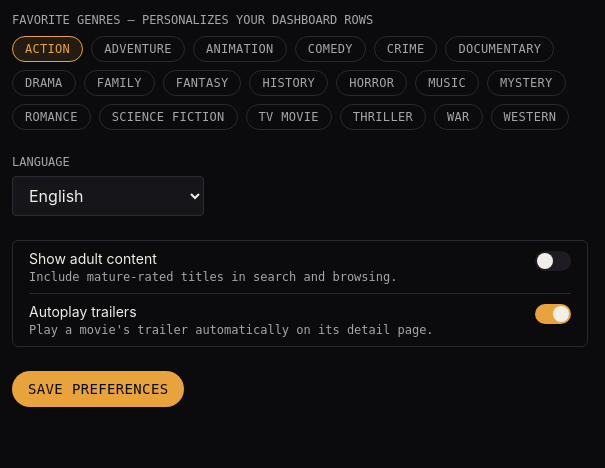
PreferencesForm › shows an error message when saving fails
The width and height of the screenshot is (605, 468).
Click the button "Save preferences". click: point(98, 389)
box: [12,371,184,407]
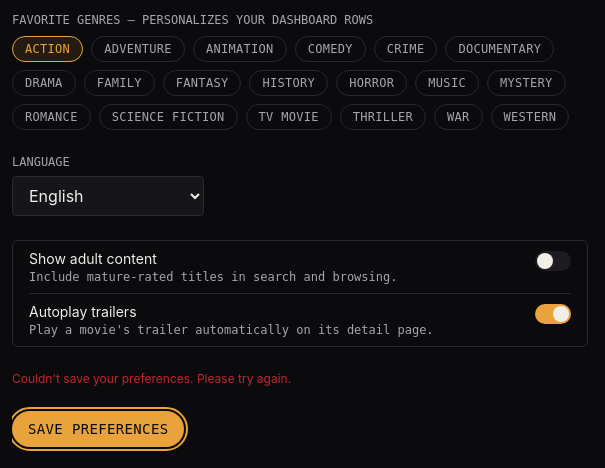
expect the text "Couldn't save your preferences. Please try again." is shown: met, box [12,371,291,386]
